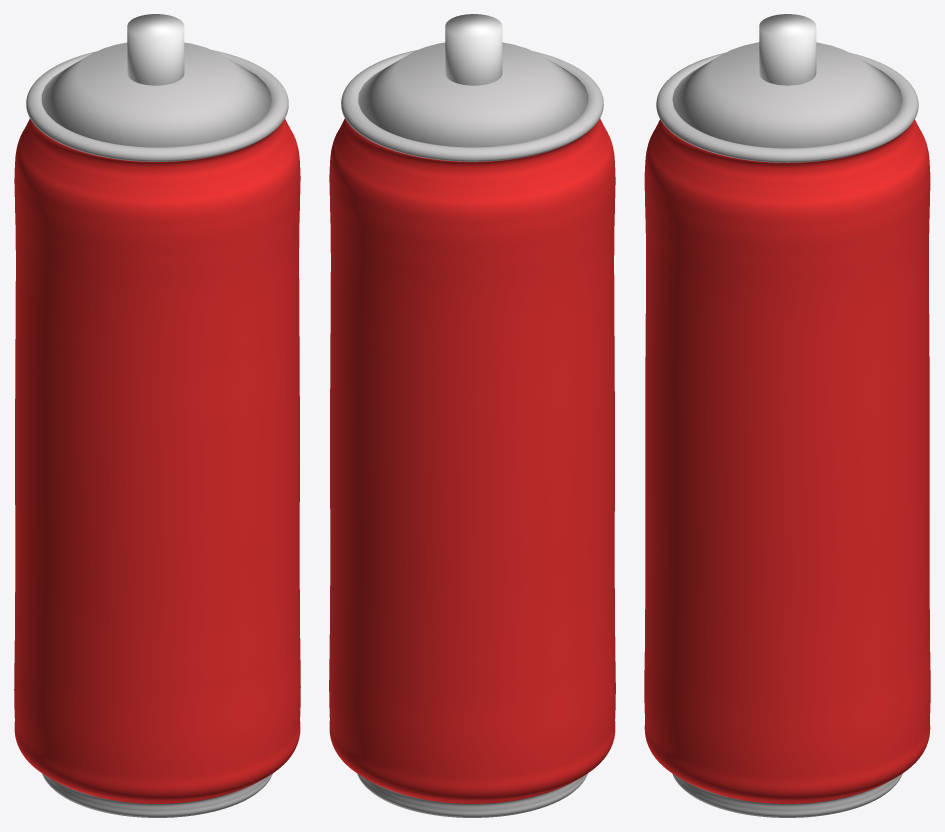
Rendered from kan_kansei 1.fbx.
3 renders of one model, left to right at view 1: azimuth 30°, elevation 25°; view 2: azimuth 150°, elevation 25°; view 3: azimuth 270°, elevation 25°, orthographic.
Parts seen in each view (by area): view 1: 円柱.002; view 2: 円柱.002; view 3: 円柱.002.
Part boxes in pixels (box(x1,y1,x2,y2)): 円柱.002: box(14, 14, 300, 817); 円柱.002: box(329, 14, 615, 817); 円柱.002: box(644, 14, 930, 817).
Size of the model in its own units: 194 by 194 by 557.
